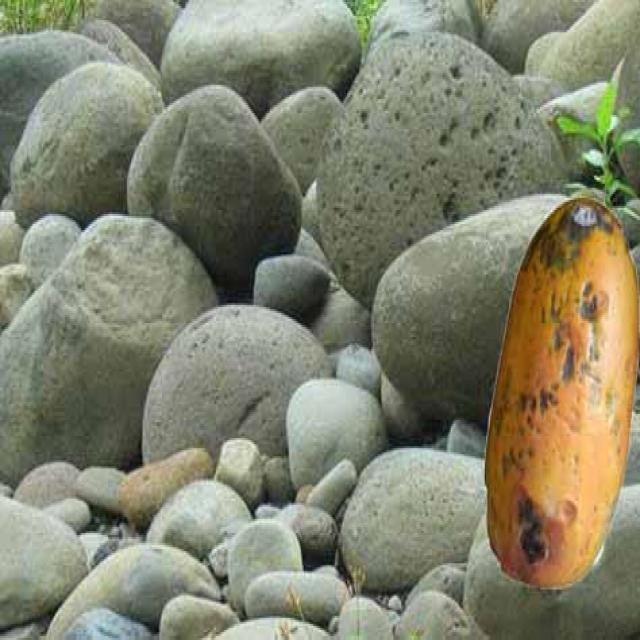Pepaya rippen: (485, 190, 636, 596)
